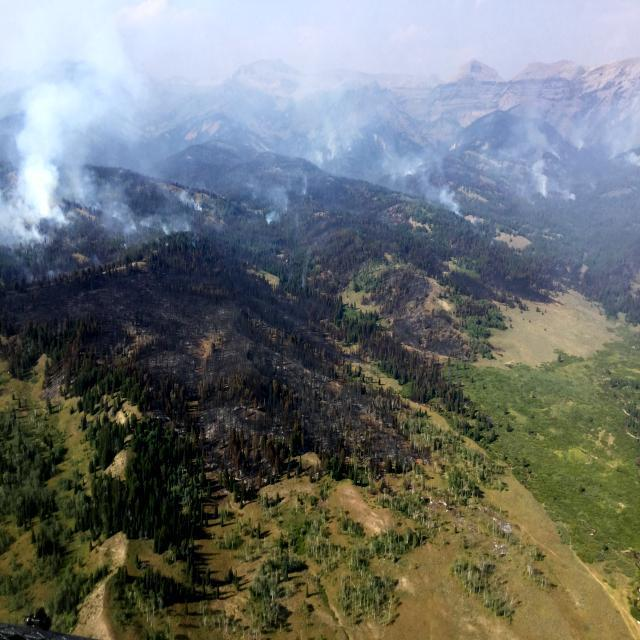Smoke: (0, 38, 226, 247), (388, 125, 469, 221)
